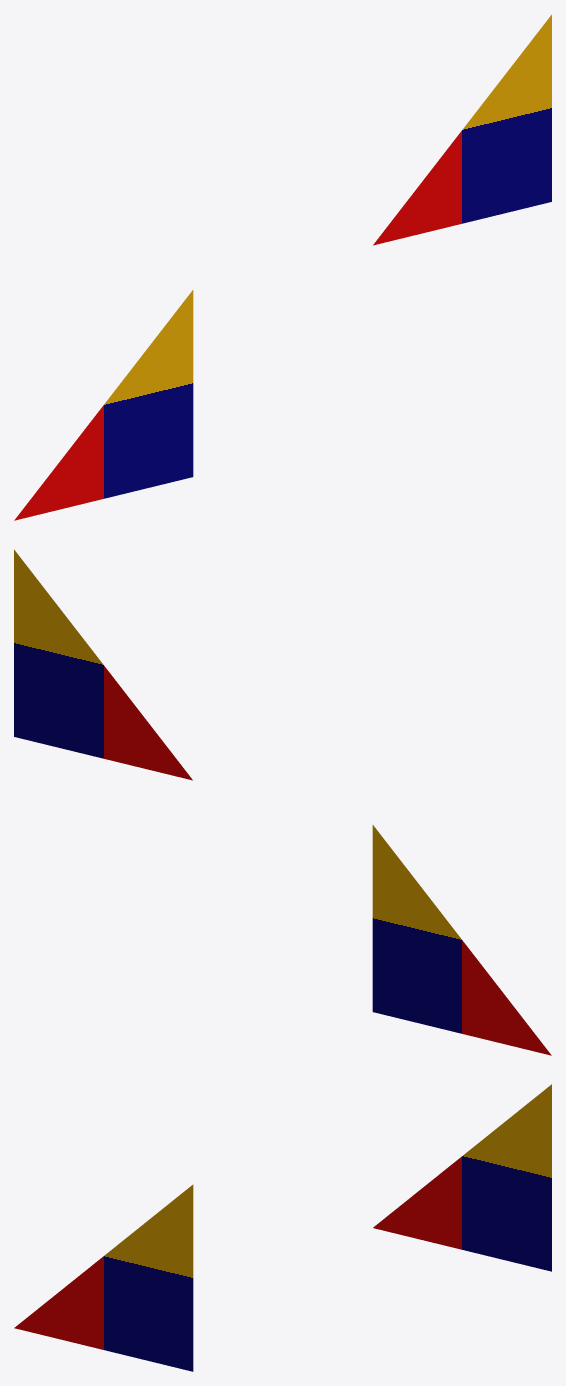
The picture shows the model from 3 angles, top to bottom: view 1: azimuth 30°, elevation 25°; view 2: azimuth 150°, elevation 25°; view 3: azimuth 330°, elevation 25°; orthographic projection.
Visible parts, largest first — view 1: instance-b, instance-a; view 2: instance-b, instance-a; view 3: instance-b, instance-a.
Part boxes in pixels (box(x1,y1,x2,y2)): instance-b: box(14, 290, 193, 520); instance-a: box(373, 14, 551, 245); instance-b: box(372, 825, 551, 1055); instance-a: box(14, 549, 192, 780); instance-b: box(14, 1184, 193, 1371); instance-a: box(373, 1084, 551, 1271).
Bounding box in the file's own units: 3 × 2 × 0.
2 materials, 2 textured.
